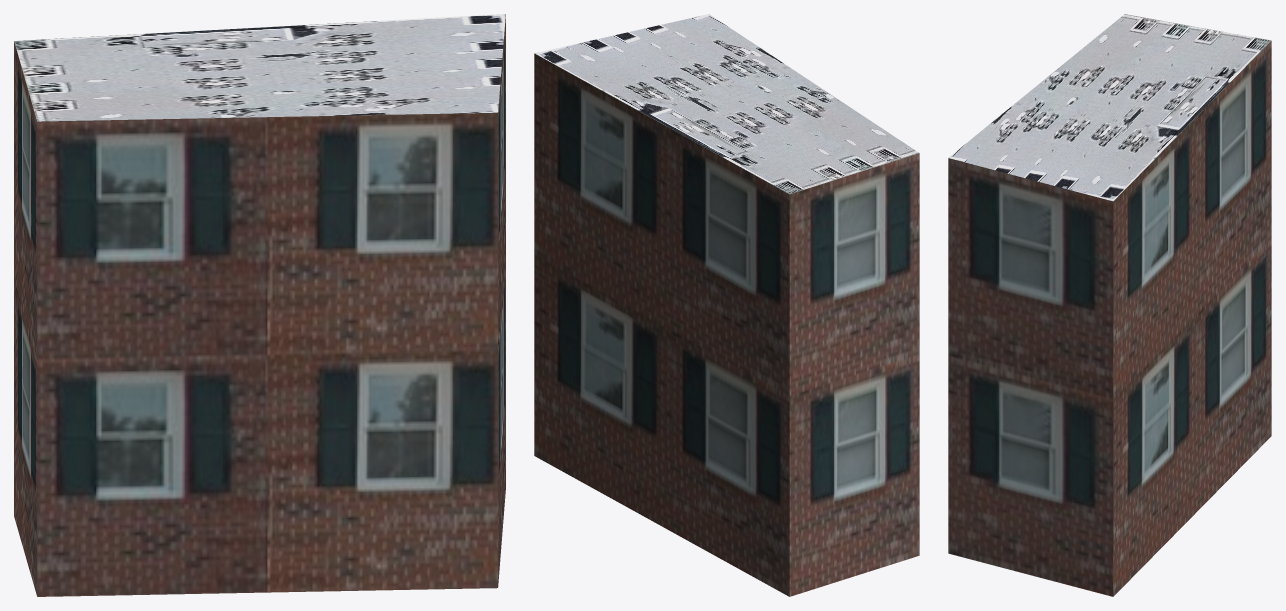
Rendered from ResTex__1048.fbx.
3 renders of one model, left to right at view 1: azimuth 30°, elevation 25°; view 2: azimuth 150°, elevation 25°; view 3: azimuth 270°, elevation 25°, orthographic. The views are drawn at different scales.
Parts seen in each view (by area): view 1: CityEngineMaterial_14_m, CityEngineMaterial_m; view 2: CityEngineMaterial_14_m, CityEngineMaterial_m; view 3: CityEngineMaterial_14_m, CityEngineMaterial_m.
Boxes of the visible parts, x1,y1,x2,y2 form: CityEngineMaterial_14_m: (14,15,505,596); CityEngineMaterial_m: (14,14,505,121); CityEngineMaterial_14_m: (534,53,919,596); CityEngineMaterial_m: (535,14,918,194); CityEngineMaterial_14_m: (948,41,1271,596); CityEngineMaterial_m: (948,14,1271,201).
Bounding box in the file's own units: 6.1 × 6 × 4.45.
2 materials, 2 textured.
